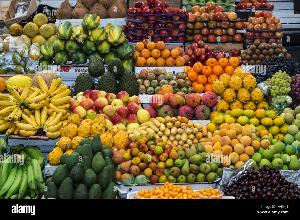apple: (176, 7, 286, 41), (60, 88, 146, 127), (122, 0, 188, 38), (185, 40, 241, 66)
apricot: (204, 124, 262, 164)
avocado: (49, 131, 118, 201)
banana: (0, 79, 78, 141), (0, 144, 54, 204)
carambola: (40, 10, 136, 66)
grape: (262, 72, 300, 112), (252, 56, 300, 80)
kiwi: (242, 38, 292, 66)
mango: (144, 86, 218, 120), (213, 104, 299, 126)
orange: (193, 60, 242, 92), (133, 40, 185, 68)
pear: (120, 142, 226, 188), (252, 124, 300, 176)
